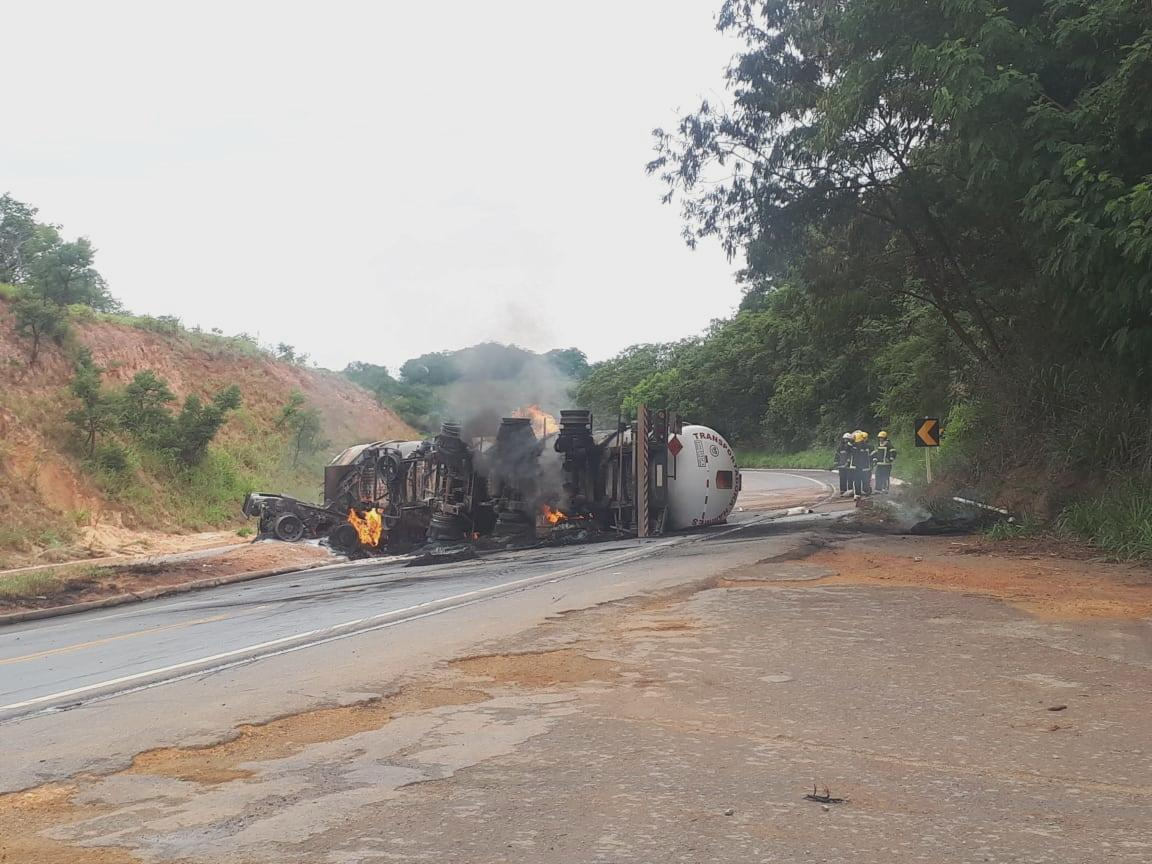Fire: (349, 507, 386, 548), (542, 509, 565, 523)
